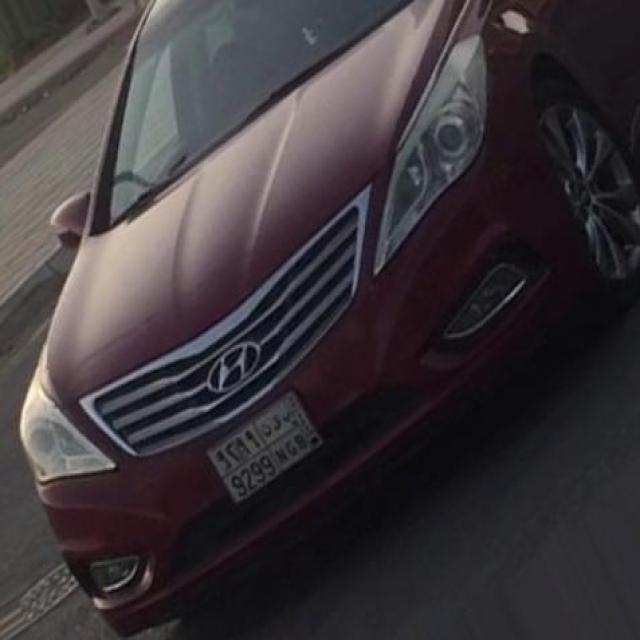Car-plate: (197, 377, 335, 520)
